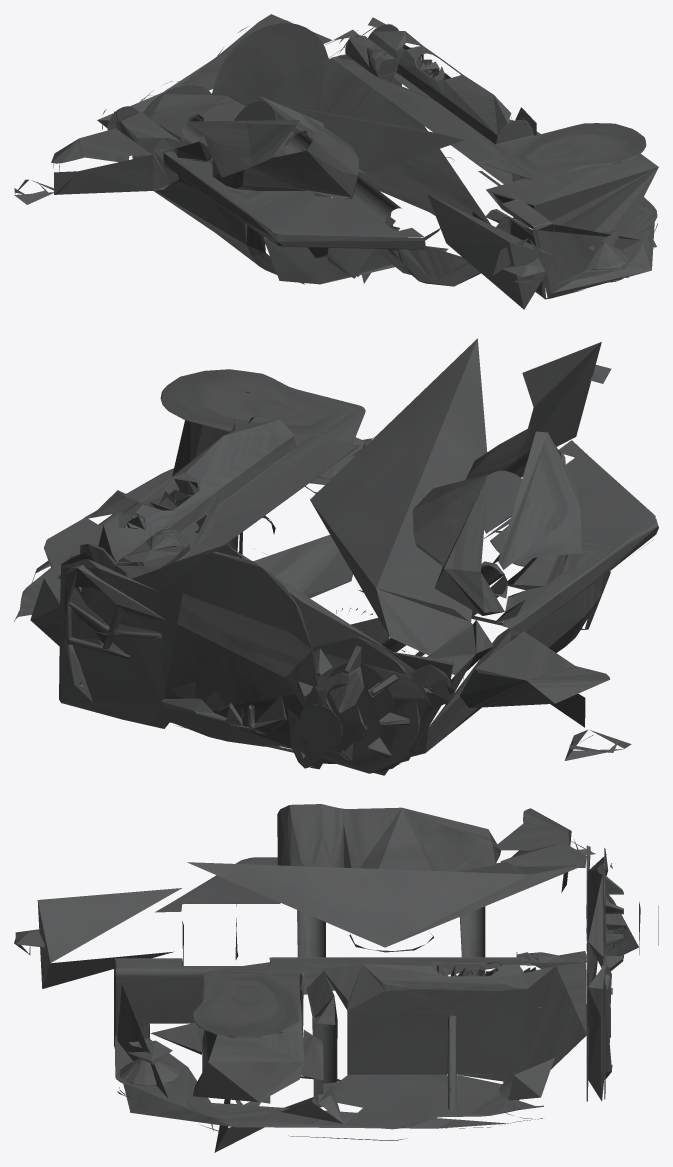
The model's file is engineComponent_oil_pump_c01.glb.
The picture shows the model from 3 angles, top to bottom: view 1: azimuth 30°, elevation 25°; view 2: azimuth 150°, elevation 25°; view 3: azimuth 270°, elevation 25°; orthographic projection. The views are drawn at different scales.
Parts seen in each view (by area): view 1: geometry_0; view 2: geometry_0; view 3: geometry_0.
Boxes of the visible parts, x1,y1,x2,y2 form: geometry_0: [14, 14, 658, 309]; geometry_0: [14, 338, 658, 775]; geometry_0: [14, 804, 658, 1152].
Size of the model in its own units: 0.4149 by 0.1637 by 0.42.
Materials: 1 (1 with a texture image).
